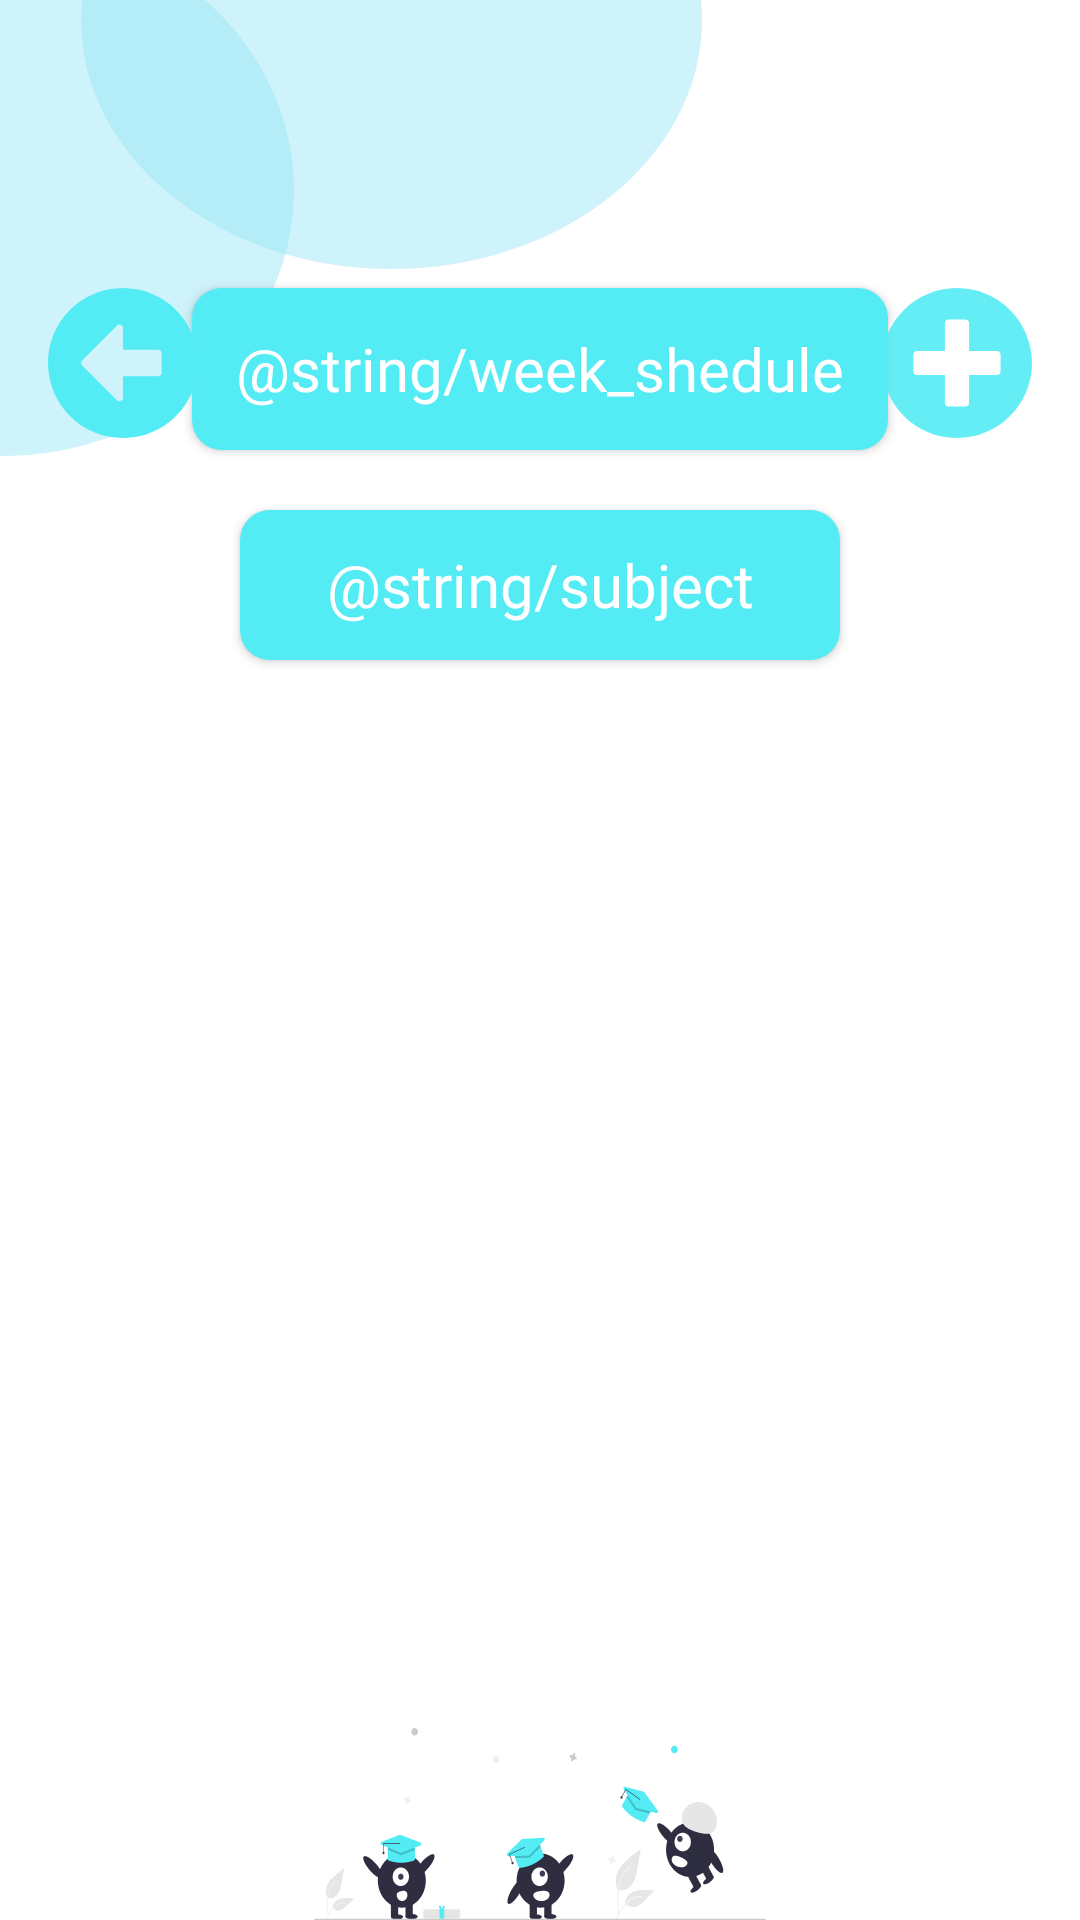

Icons on this 1080px×1920px Android screen, each with the point to tap as [x,y]:
add botton: [957,363]
back: [123,363]
